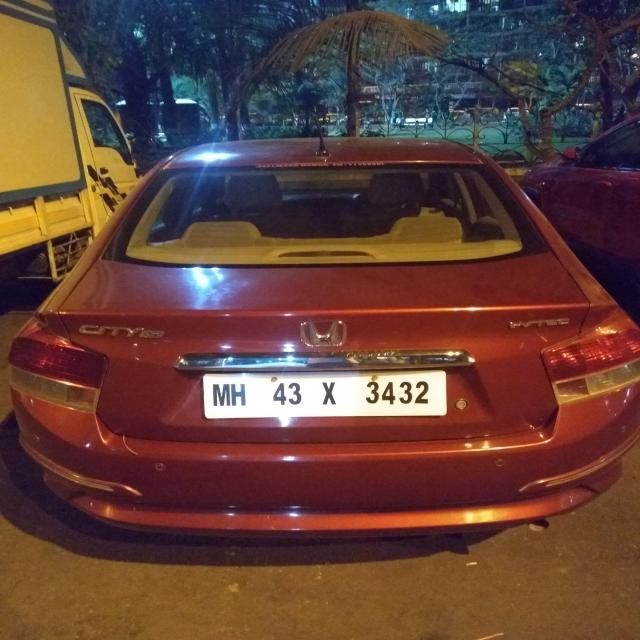Number-Plate: (206, 371, 447, 415)
